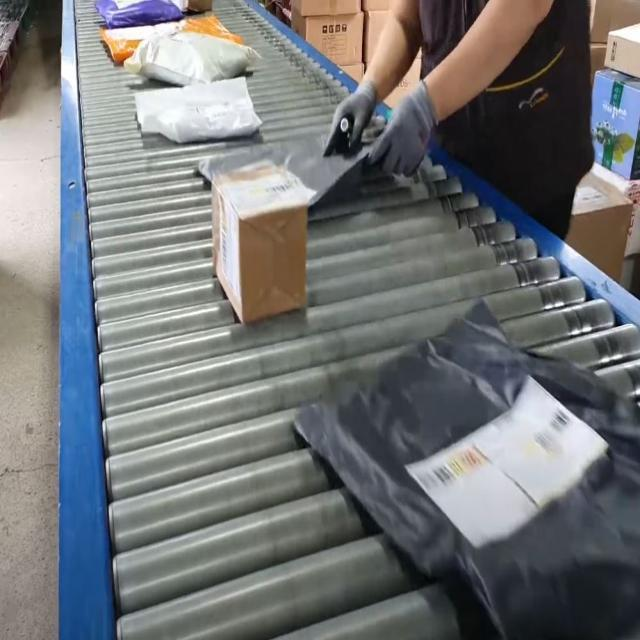gloved_hand: (365, 73, 441, 181), (321, 71, 377, 166)
